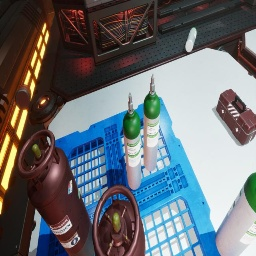0: (215, 172, 256, 256), (123, 92, 141, 190), (144, 73, 160, 172), (185, 27, 197, 52), (21, 0, 29, 2)
FirstAidBox ,: (216, 89, 256, 145)
NitrogenTank ,: (17, 129, 95, 256), (92, 184, 146, 256), (15, 84, 31, 110)
